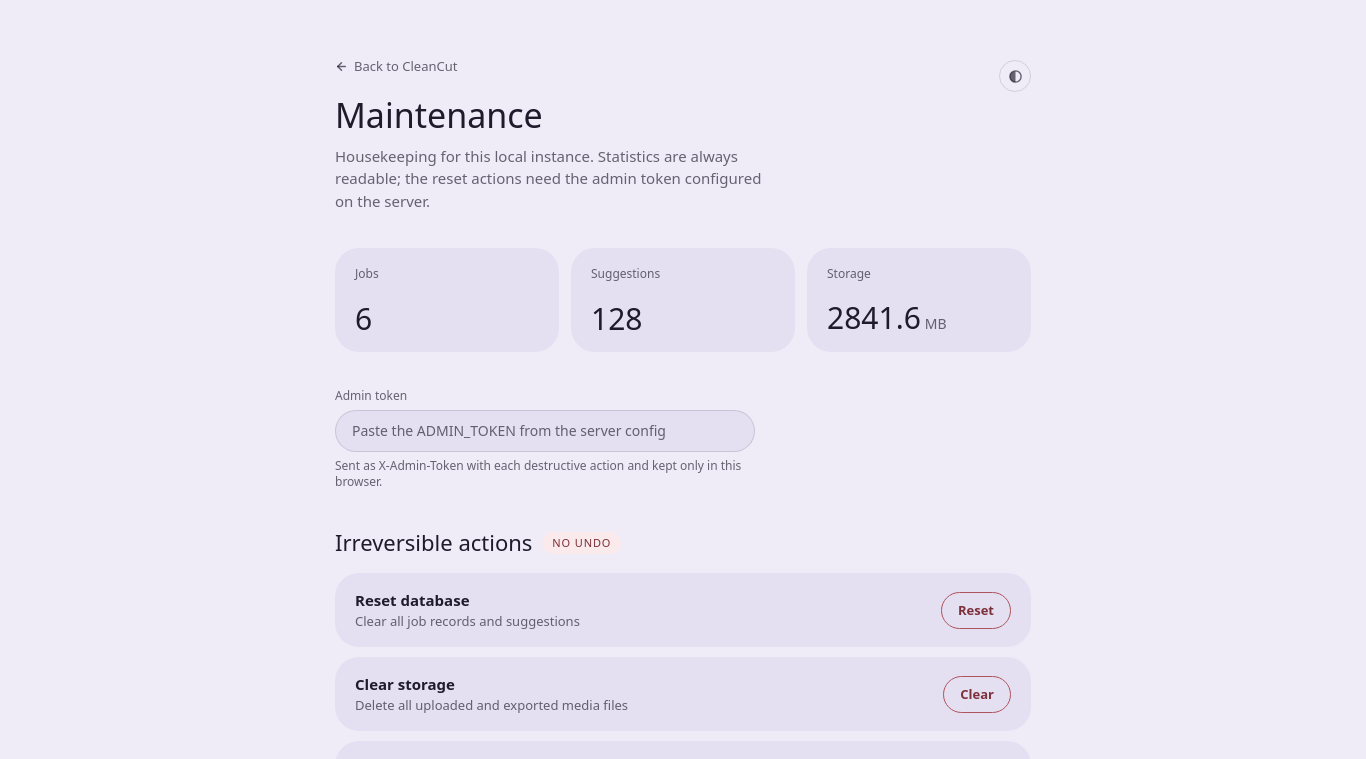
Test: the confirmation › opens with focus on the safe button, so a stray Return keeps the data
The width and height of the screenshot is (1366, 759).
Click the button "Reset" at (976, 610), box top-left (941, 592), bottom-right (1011, 629)
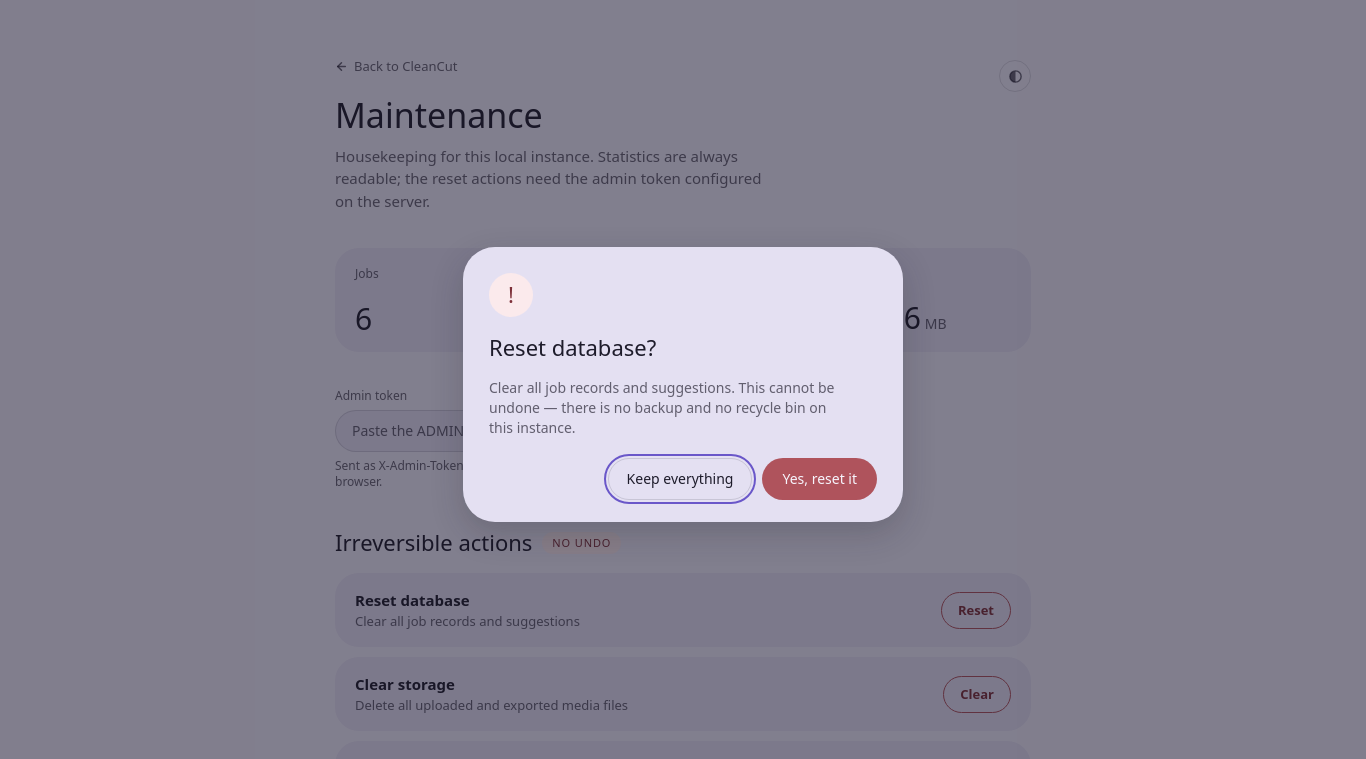
Press Enter
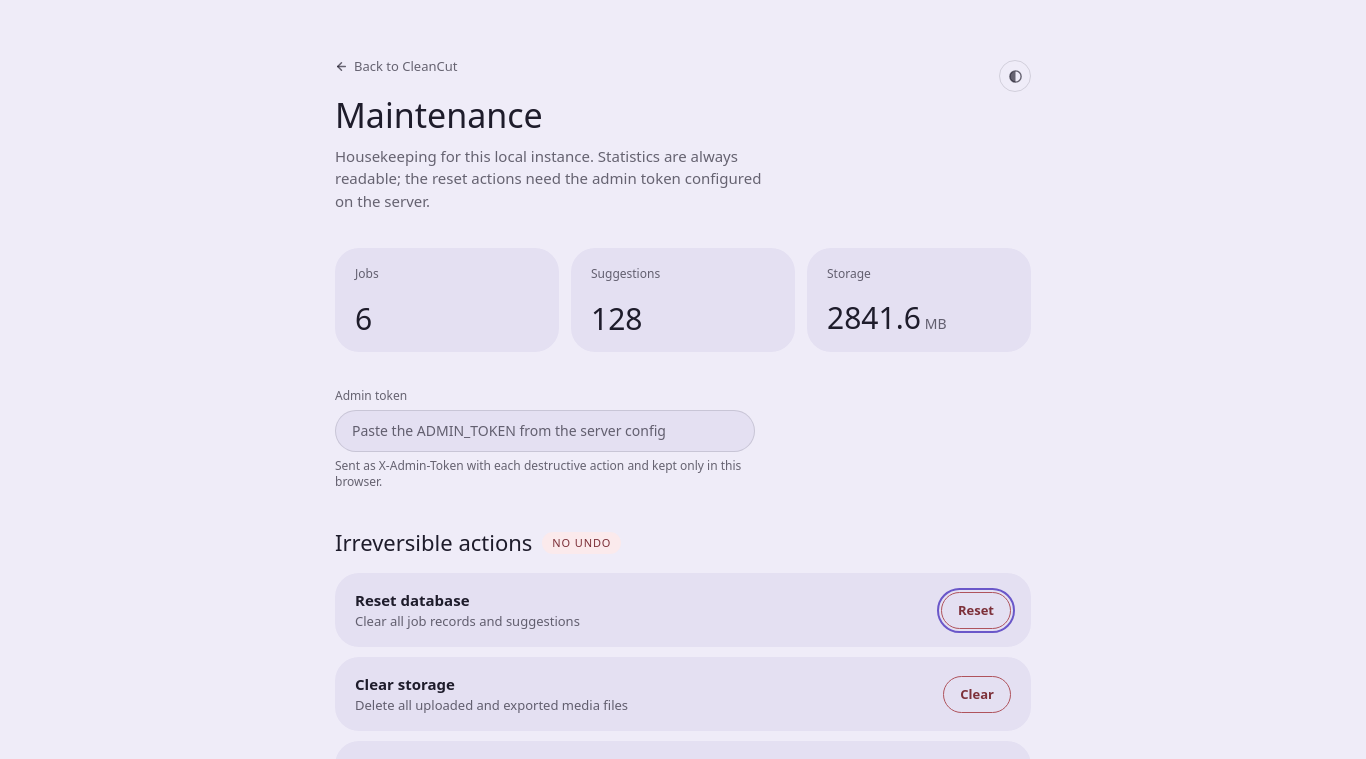
expect the dialog is gone: met
